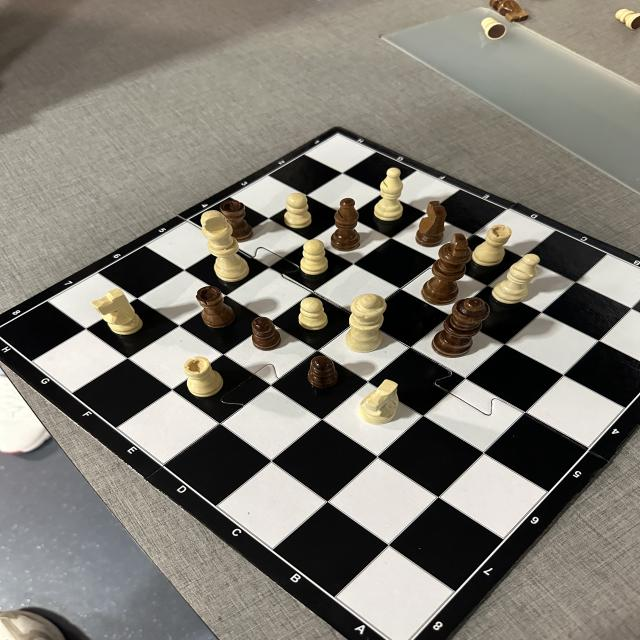Black-Bishop: (331, 198, 361, 252)
Black-King: (421, 232, 472, 306)
Black-Knight: (415, 200, 447, 248), (488, 0, 529, 22)
Black-Pawn: (307, 356, 339, 389), (251, 317, 282, 351)
Black-Queen: (431, 297, 490, 358)
Black-Rook: (196, 286, 237, 328), (220, 200, 254, 243)
White-Bishop: (492, 253, 540, 304), (374, 167, 404, 222)
White-King: (200, 210, 250, 283)
White-Knight: (90, 288, 144, 335), (359, 379, 399, 425)
White-Pawn: (298, 297, 328, 331), (284, 193, 312, 229), (300, 240, 328, 275), (614, 9, 632, 25), (480, 17, 495, 28)
White-Queen: (346, 293, 387, 353)
White-Rook: (472, 224, 512, 267), (183, 356, 224, 397)
